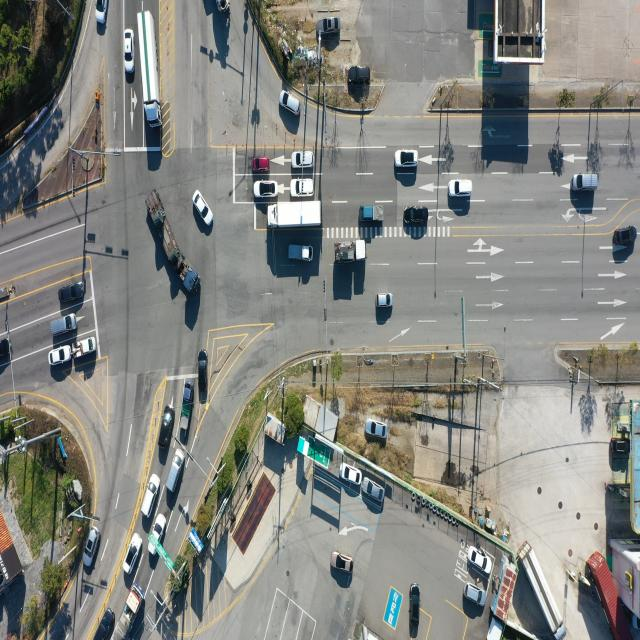car: (167, 448, 185, 494), (141, 474, 159, 519), (124, 534, 143, 576), (148, 511, 166, 554), (194, 191, 215, 227), (84, 527, 102, 569), (470, 546, 494, 576), (94, 608, 116, 640), (196, 350, 209, 404), (462, 583, 486, 608), (51, 314, 78, 336), (60, 282, 86, 304), (161, 410, 175, 450), (279, 91, 300, 117), (50, 344, 74, 366), (124, 31, 136, 74), (362, 480, 384, 503), (571, 172, 598, 190), (332, 552, 354, 574), (290, 178, 314, 198), (406, 206, 430, 226), (615, 228, 638, 248), (364, 418, 386, 438), (253, 180, 277, 198), (449, 179, 473, 197), (394, 149, 418, 167), (342, 463, 362, 484), (292, 150, 314, 168), (412, 585, 422, 624), (0, 336, 13, 366), (350, 66, 370, 84), (96, 0, 109, 25), (251, 158, 270, 174), (323, 18, 340, 34), (613, 441, 631, 455), (377, 292, 393, 307)
medium_truck: (522, 539, 567, 637), (138, 13, 161, 129), (117, 583, 147, 637), (267, 201, 321, 230), (335, 240, 367, 264), (216, 0, 230, 14)
small_truck: (181, 383, 193, 432), (75, 336, 98, 359), (289, 244, 314, 262), (358, 205, 382, 222)
